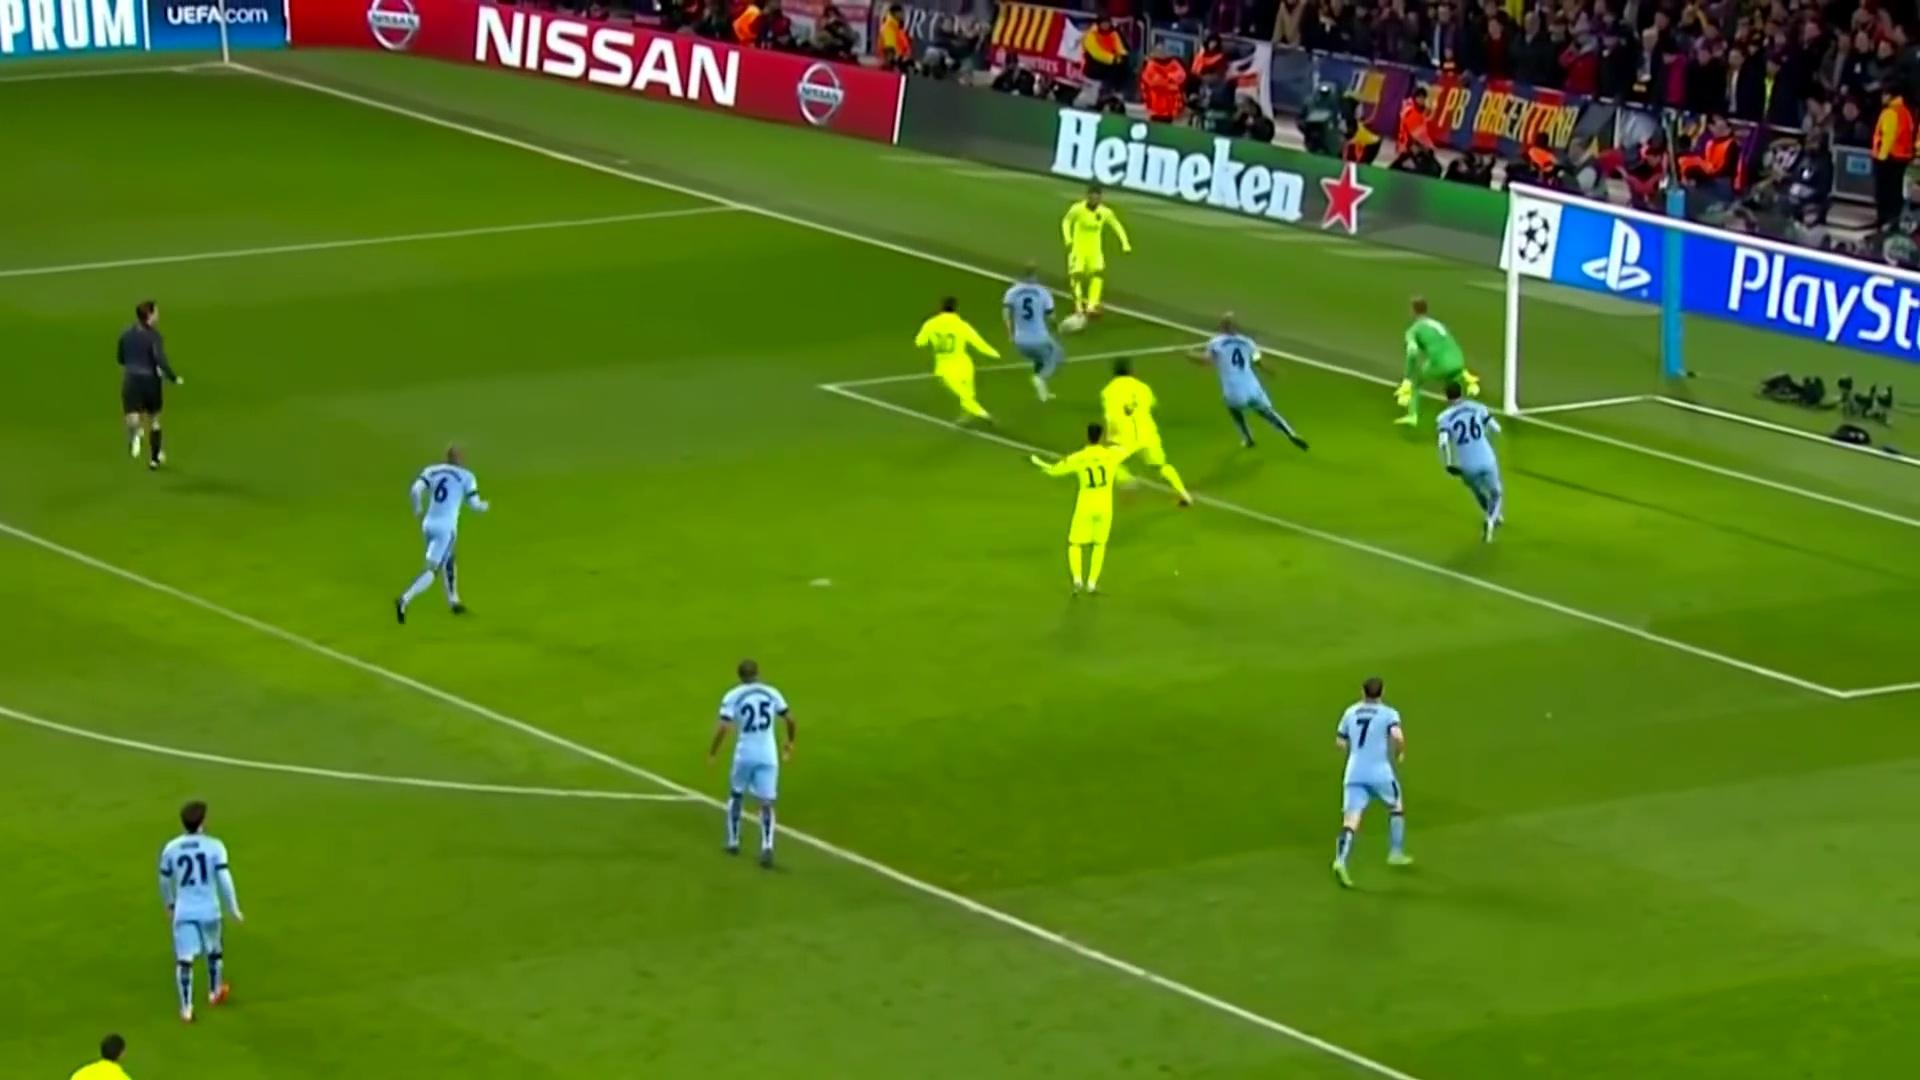ball: (1061, 309, 1093, 337)
goalkeeper: (1388, 293, 1489, 432)
player: (1026, 393, 1141, 598), (154, 794, 249, 1030), (703, 653, 800, 873), (1328, 671, 1423, 894), (389, 435, 496, 630), (1180, 306, 1316, 457), (1095, 352, 1199, 513), (1432, 377, 1512, 548), (911, 291, 1003, 432), (1058, 181, 1141, 317), (999, 257, 1067, 405), (62, 1027, 146, 1080)
